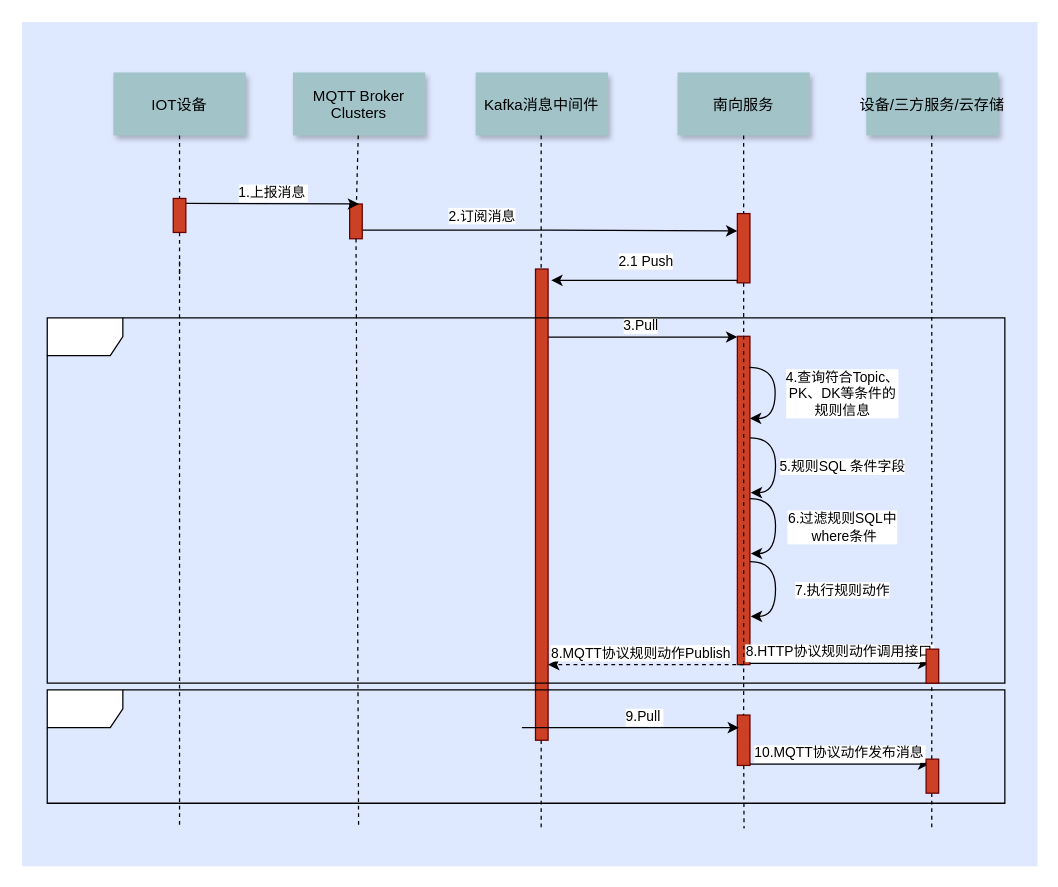
Image size: 1058x887. Some labels were removed from this diagram. Here are the shapes that lost their labels. From the top down, the centre of each, then its label:
[525,500]: 规则引擎
[525,746]: 消息发布
